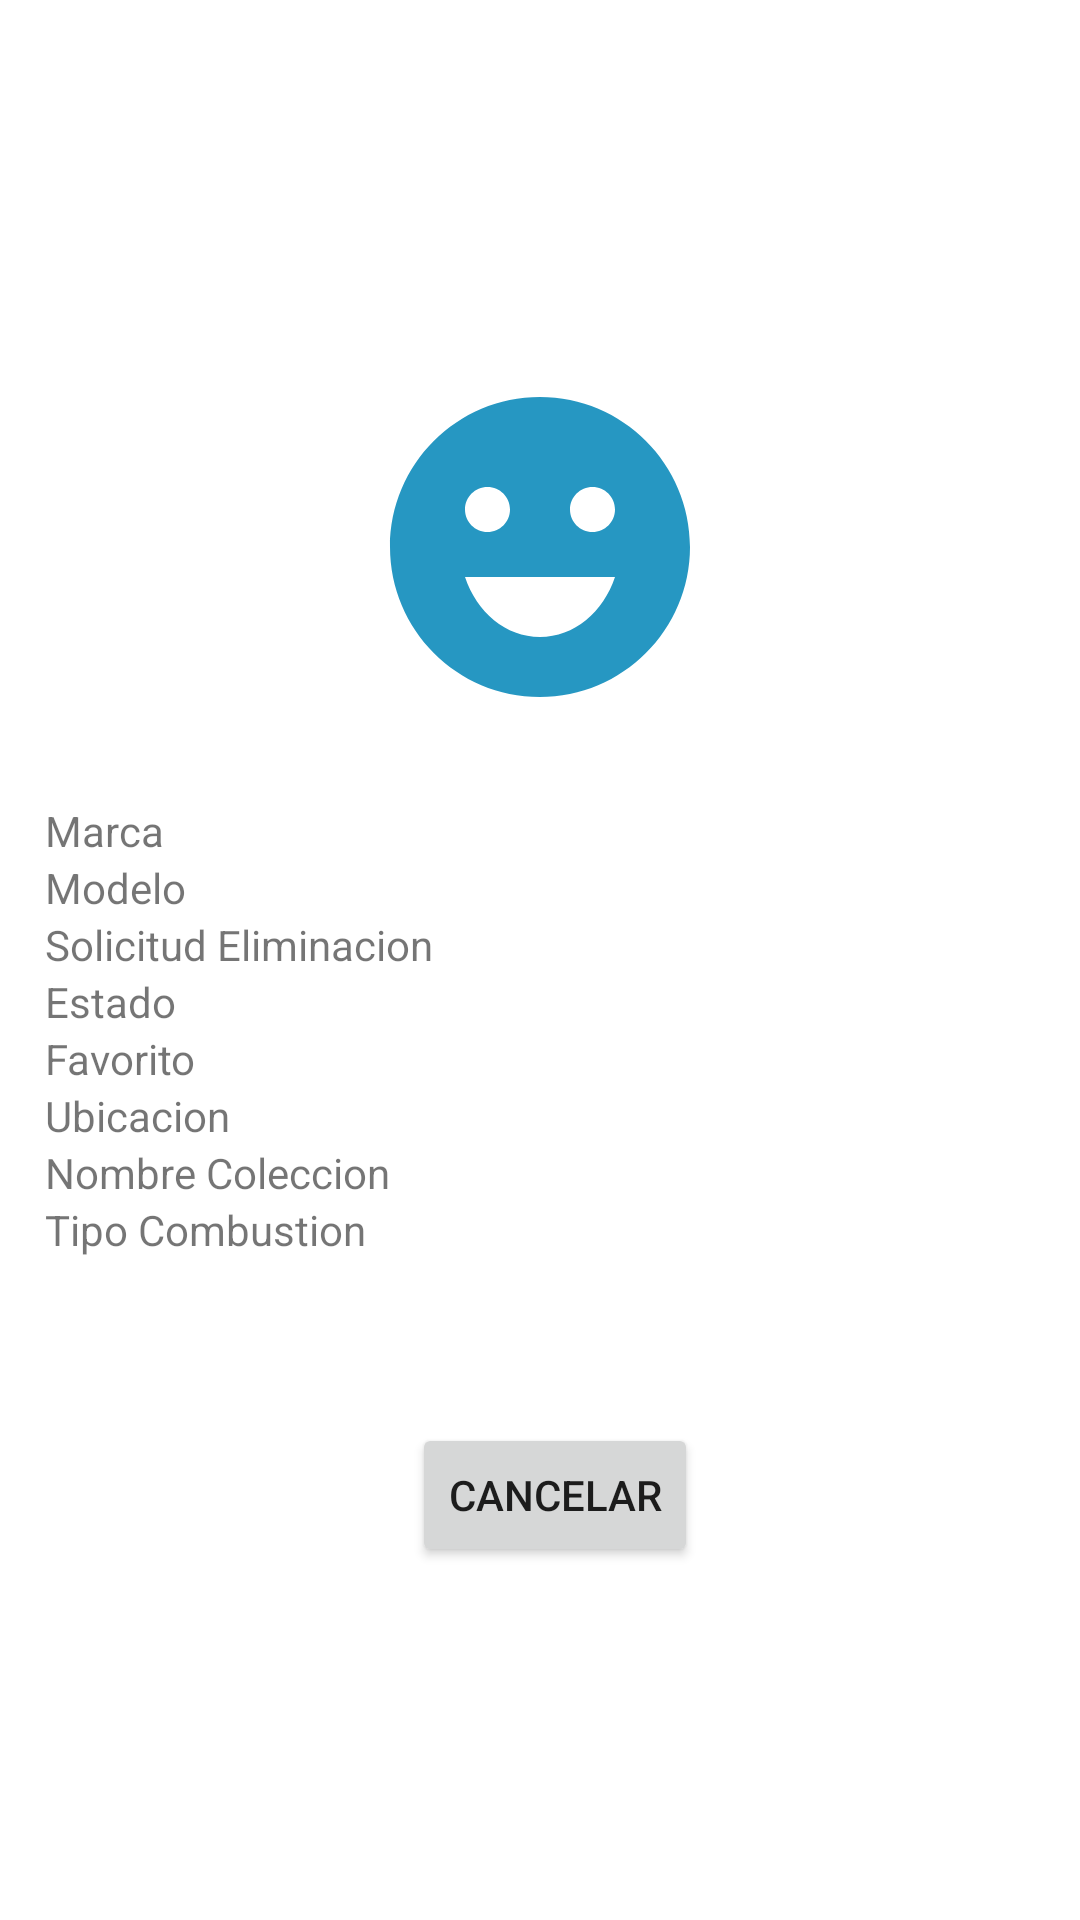

Icon click points for this 1080w x 1920h phone screenshot, format point (x, y):
user: point (540, 547)
